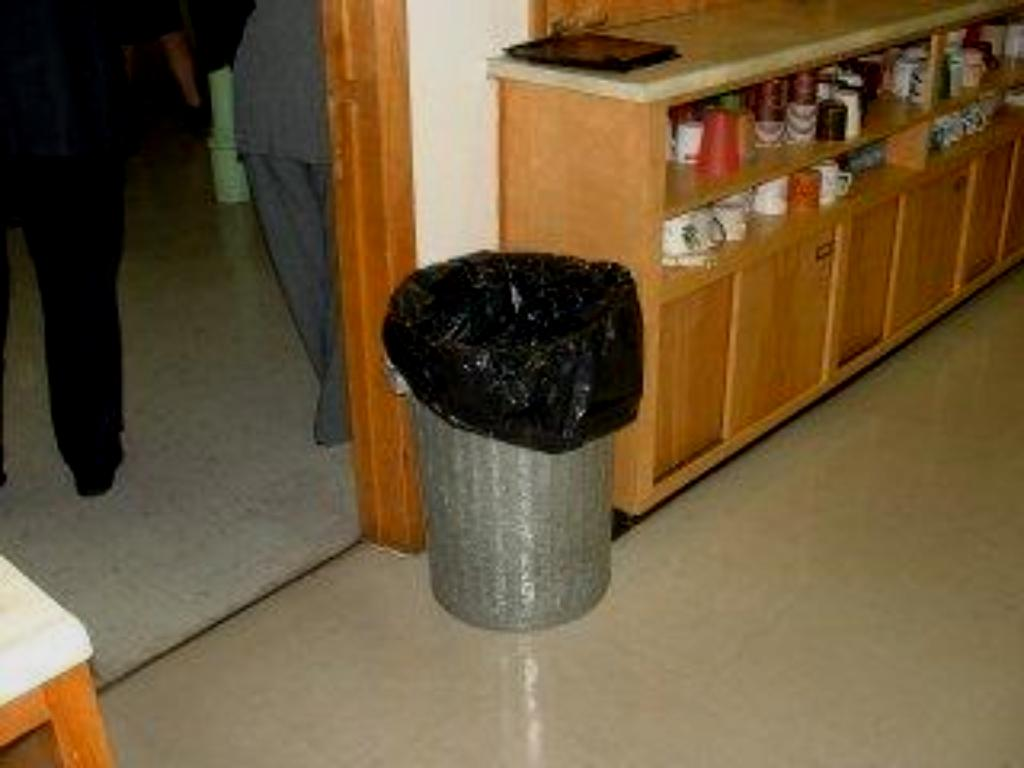dustbin: (364, 240, 644, 639)
